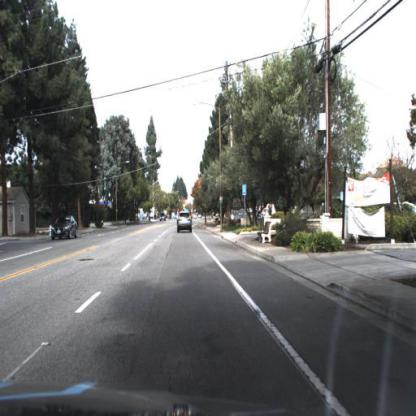car: (47, 214, 80, 242), (176, 208, 196, 236)
